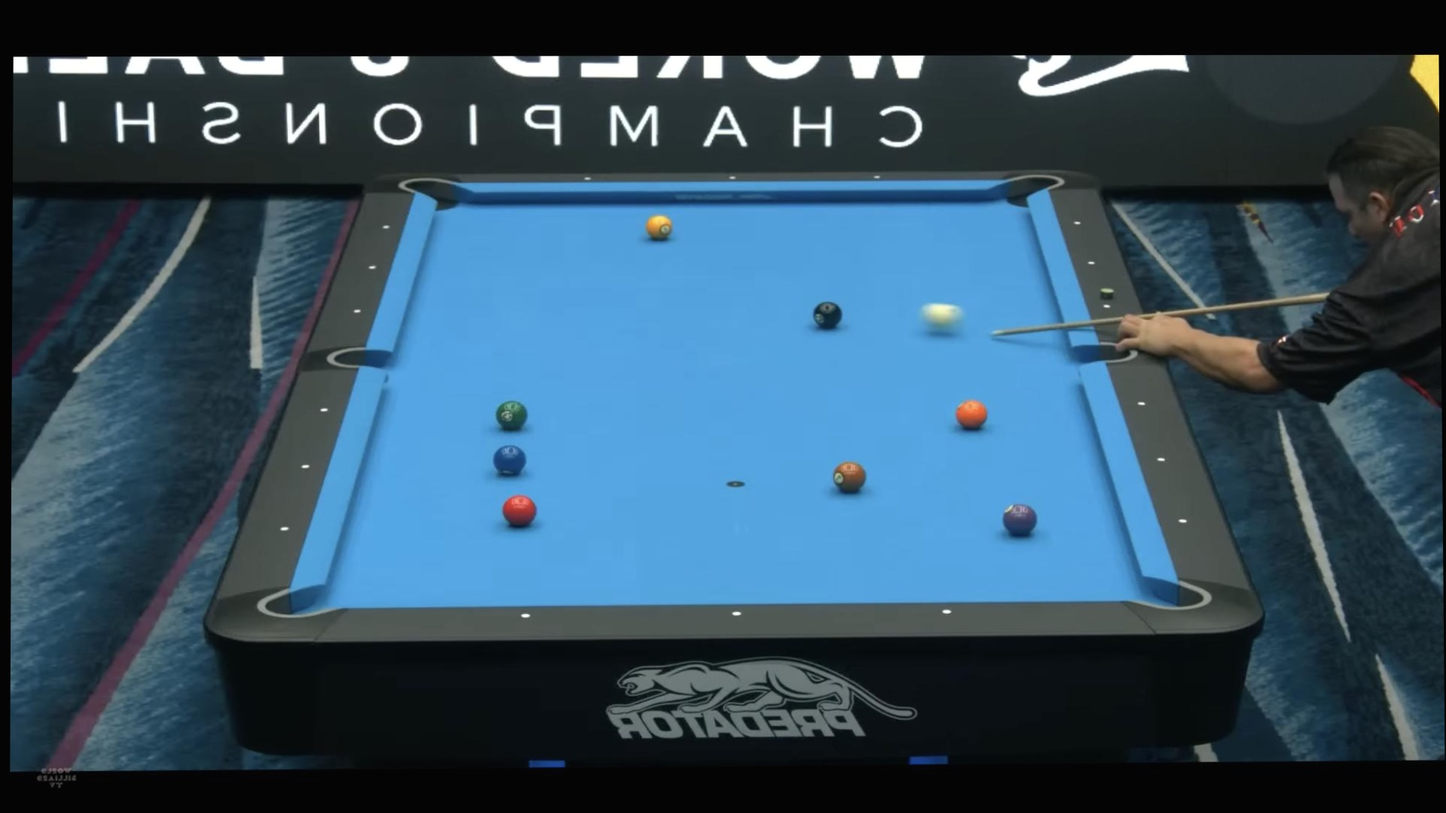Black: (813, 301, 843, 327)
Cue: (923, 302, 961, 332)
Solid: (941, 605, 955, 617), (728, 608, 742, 620), (519, 610, 532, 622), (317, 404, 330, 416), (278, 524, 291, 535), (298, 461, 311, 472), (1156, 455, 1166, 464), (1137, 399, 1146, 408), (1178, 517, 1187, 525), (353, 307, 361, 315), (382, 223, 390, 231), (1088, 260, 1096, 268), (368, 264, 377, 271), (1103, 303, 1111, 310), (1073, 220, 1081, 227), (873, 173, 881, 180), (728, 174, 736, 181), (584, 176, 591, 182)
Striped: (1002, 503, 1038, 535), (833, 461, 867, 493), (502, 494, 537, 525), (493, 445, 527, 475), (496, 400, 528, 430), (956, 400, 988, 429), (646, 214, 672, 240)
